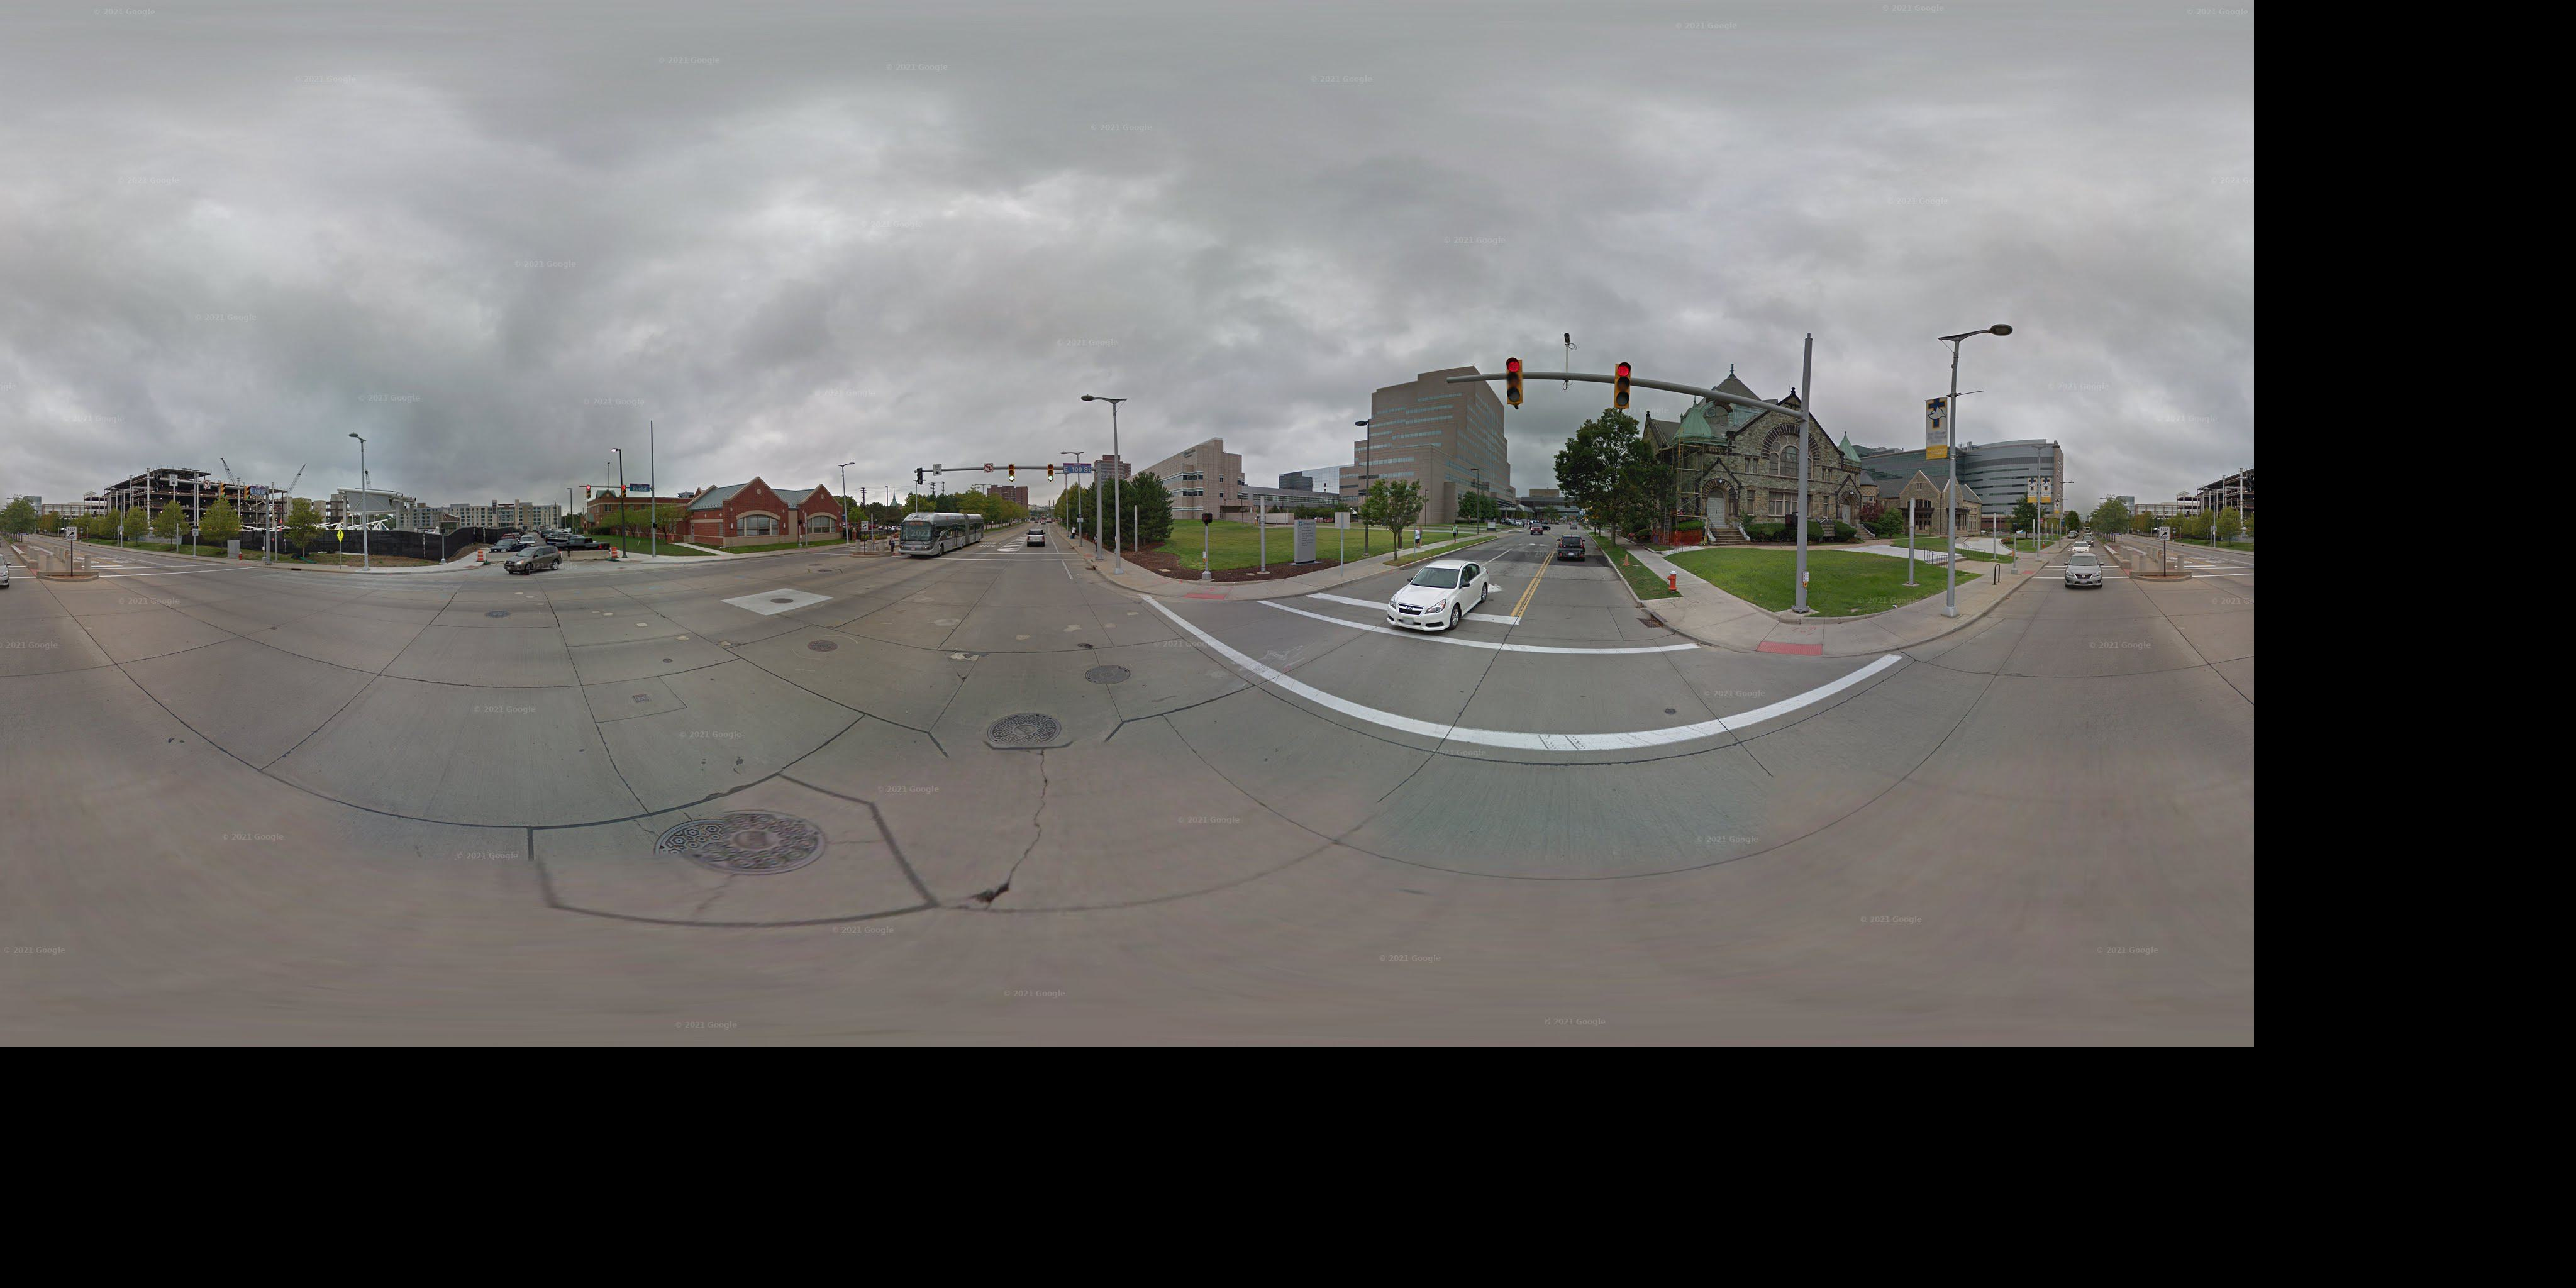Curb Ramp: (1750, 631, 1827, 657), (1180, 585, 1226, 605), (2017, 567, 2039, 578), (463, 559, 480, 572), (624, 555, 644, 565), (1078, 550, 1094, 560), (805, 547, 823, 554), (233, 560, 255, 565)
